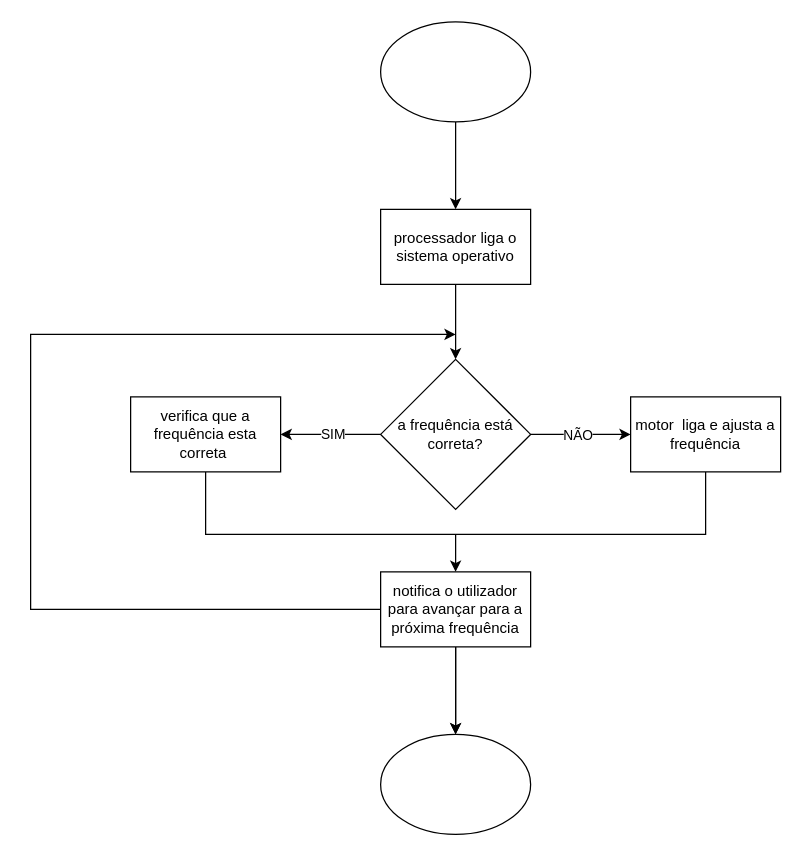
This 803x856 diagram has some shape labels left out. The centre of each missing label's shape, as x and y in pixels:
fim: pixel 455 783
inicio: pixel 455 71
